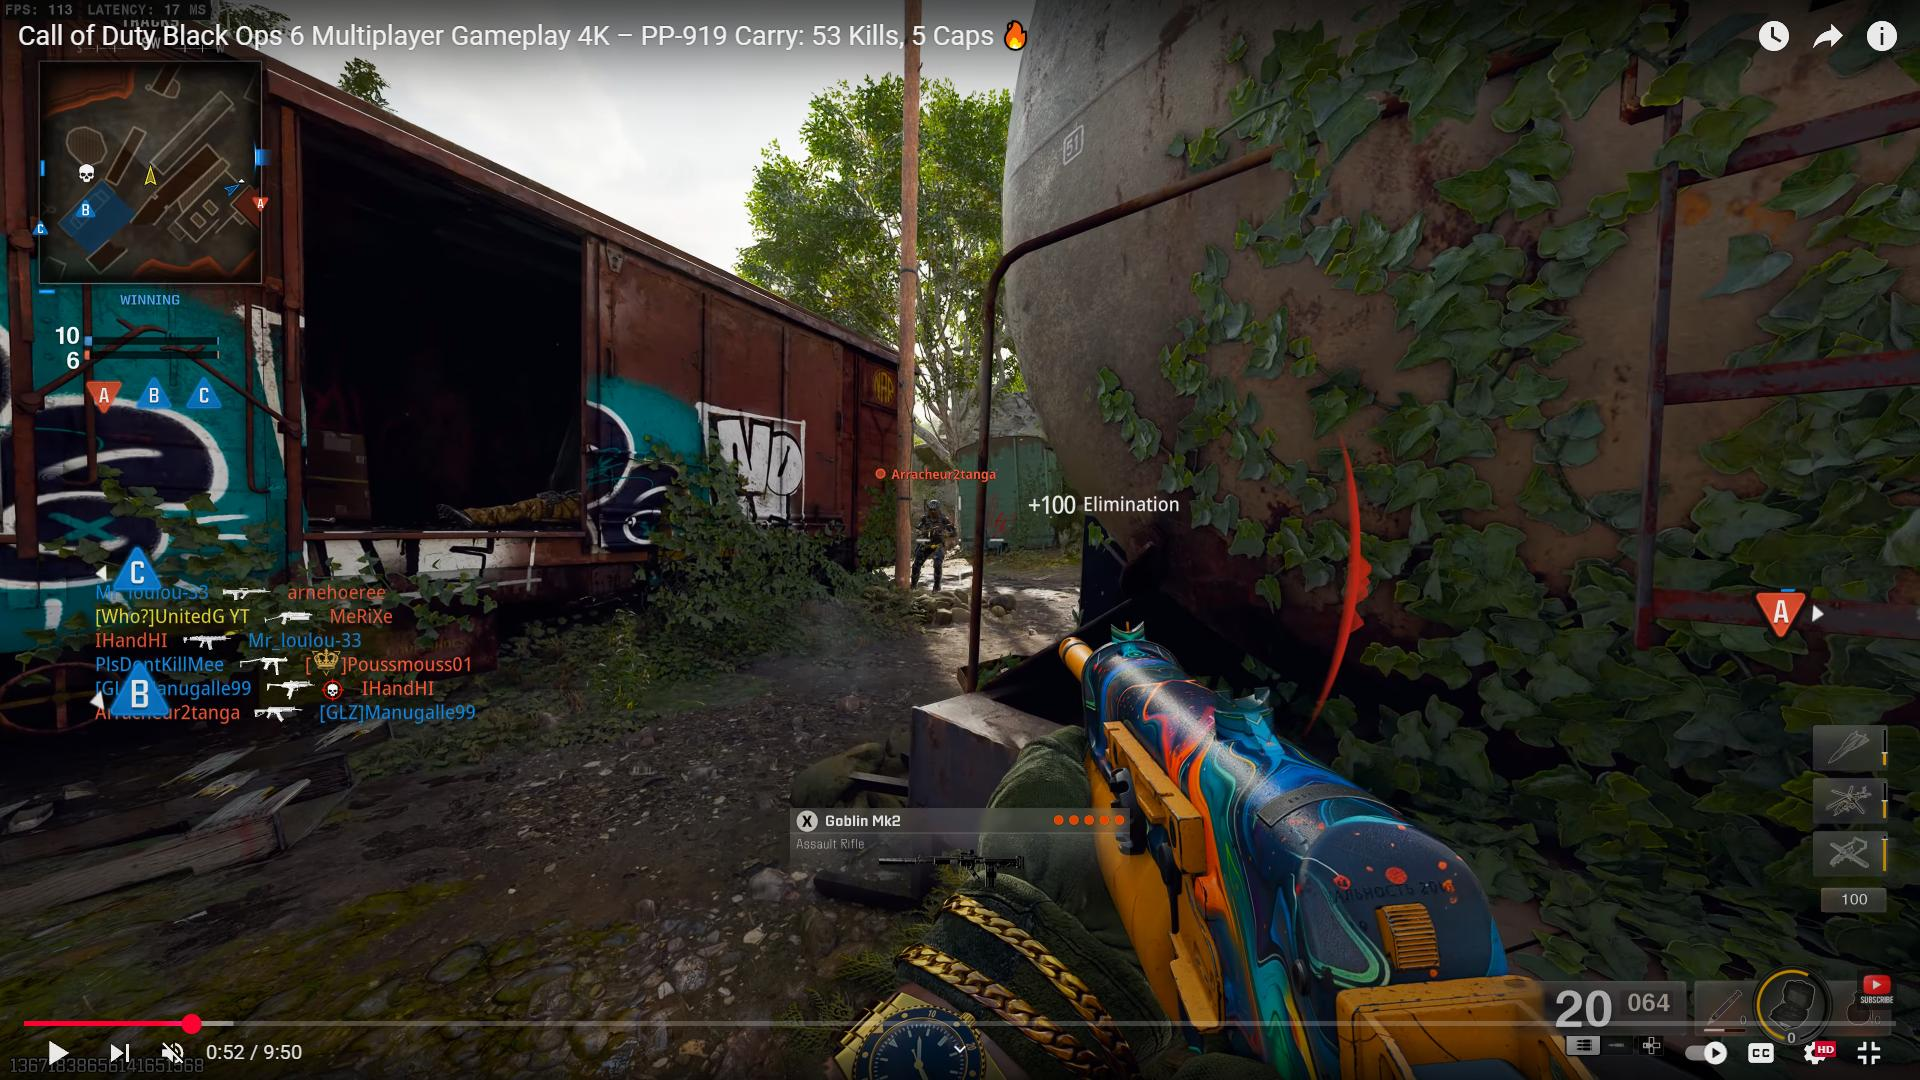Enemy: (903, 487, 957, 587)
